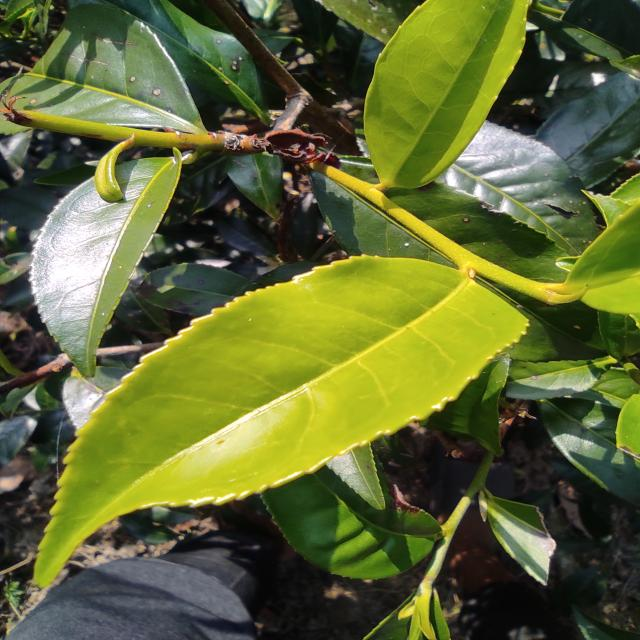Category B 2-4 days: (15, 254, 537, 605)
